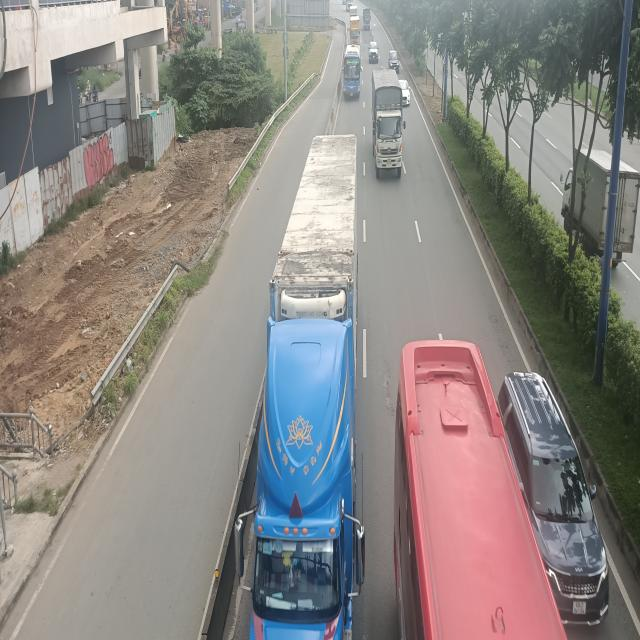car: (498, 372, 612, 625), (398, 80, 411, 106), (388, 50, 399, 73), (369, 41, 379, 63)
coach: (393, 338, 569, 640), (343, 44, 362, 99)
container: (234, 131, 367, 640)
truck: (372, 68, 406, 180), (350, 17, 360, 44), (363, 8, 371, 30)
